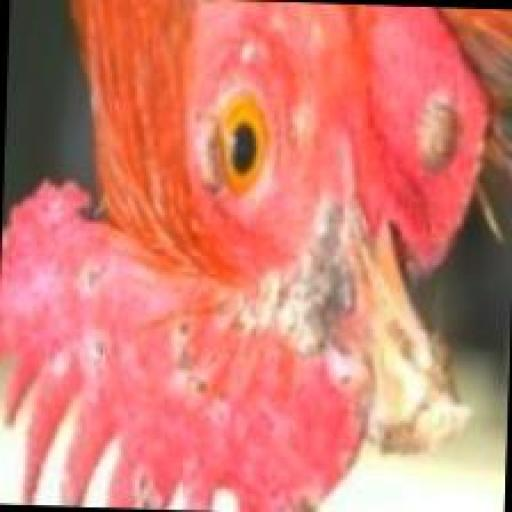disease: (0, 201, 384, 512), (397, 80, 465, 178)
